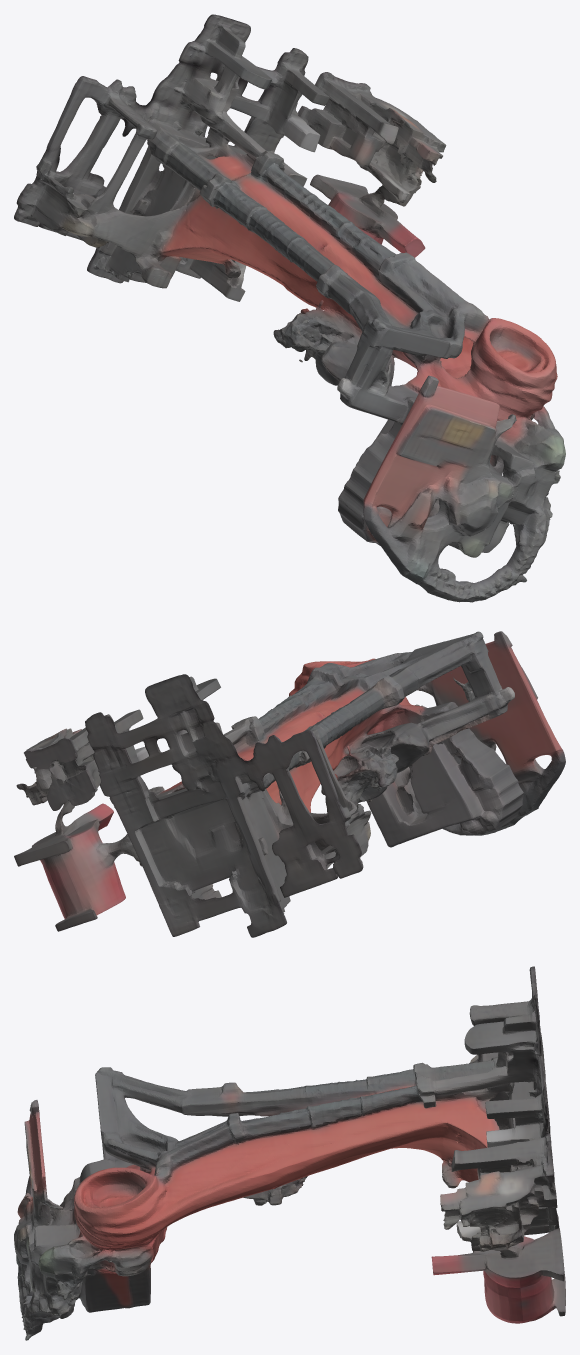
Rendered from entity-robot.glb.
The picture shows the model from 3 angles, top to bottom: view 1: azimuth 30°, elevation 25°; view 2: azimuth 150°, elevation 25°; view 3: azimuth 270°, elevation 25°; orthographic projection. The views are drawn at different scales.
Parts seen in each view (by area): view 1: geometry_0; view 2: geometry_0; view 3: geometry_0.
Boxes of the visible parts, <box> form: geometry_0: <box>14,14,565,602</box>; geometry_0: <box>14,631,565,937</box>; geometry_0: <box>14,966,565,1340</box>.
Size of the model in its own units: 1.95 by 1.8 by 2.68.
